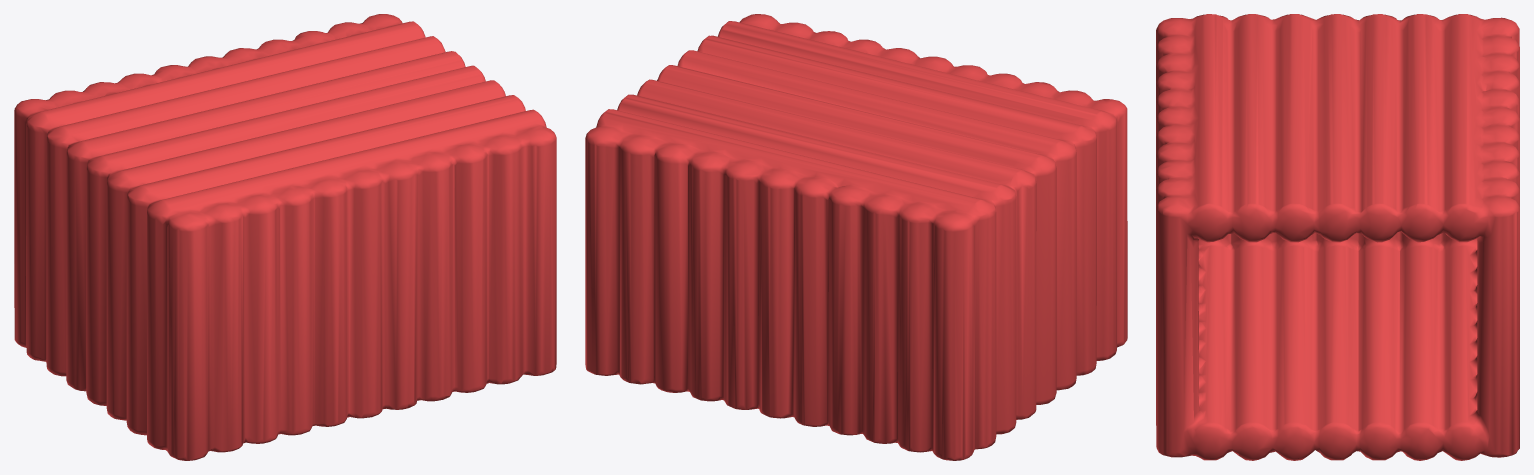
File: 220412_ROOM_w_materal_2.fbx
3 views of the same model, side by side, from view 1: azimuth 30°, elevation 25°; view 2: azimuth 150°, elevation 25°; view 3: azimuth 270°, elevation 25° (orthographic). The views are drawn at different scales.
Visible parts, largest first — view 1: NEW_ROOM; view 2: NEW_ROOM; view 3: NEW_ROOM.
Part boxes in pixels (x1,y1,x2,y2): NEW_ROOM: [14, 14, 556, 460]; NEW_ROOM: [585, 14, 1127, 460]; NEW_ROOM: [1156, 14, 1519, 460].
Size of the model in its own units: 1265 by 757 by 969.
